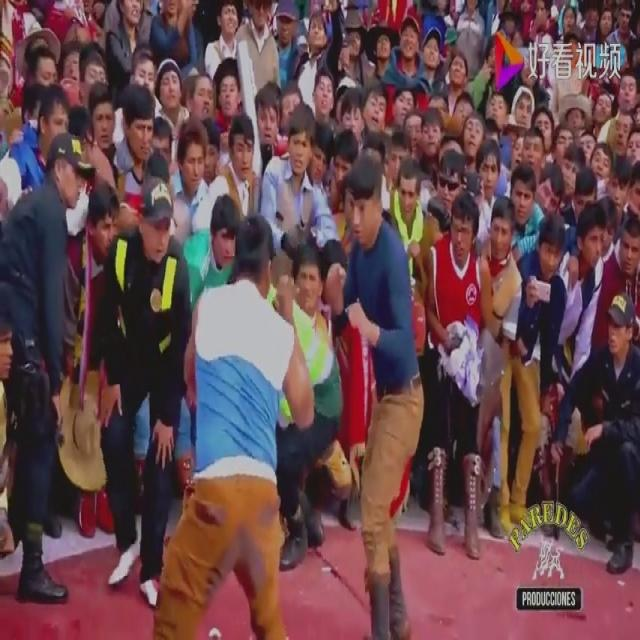fight: (152, 153, 429, 640)
non-fight: (0, 129, 94, 607), (97, 178, 190, 610), (424, 186, 496, 563)
